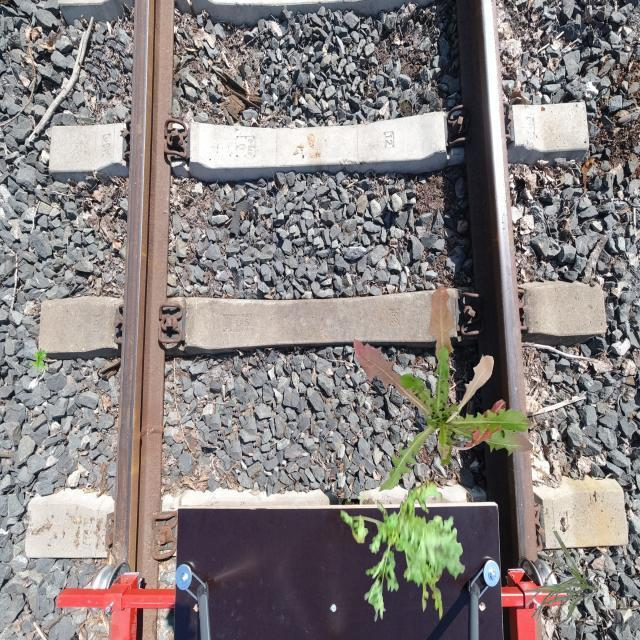Plant: (354, 283, 534, 492), (341, 475, 466, 622), (525, 531, 598, 624), (29, 349, 46, 373)
